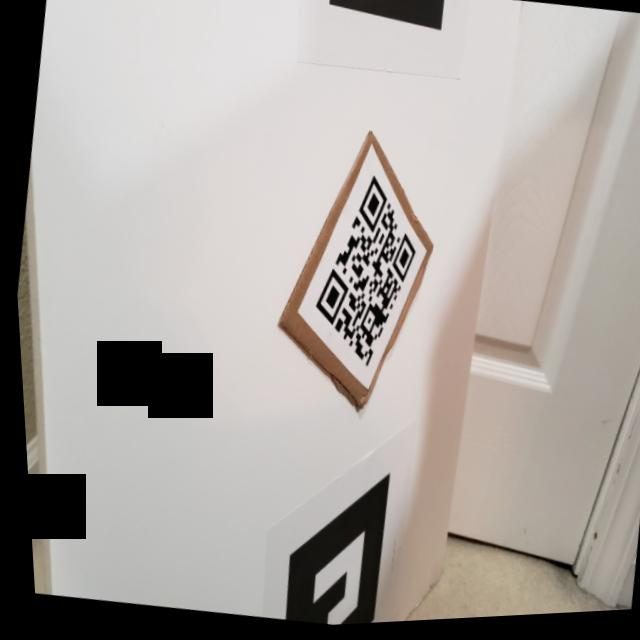QR_CODE: (285, 158, 437, 390)
